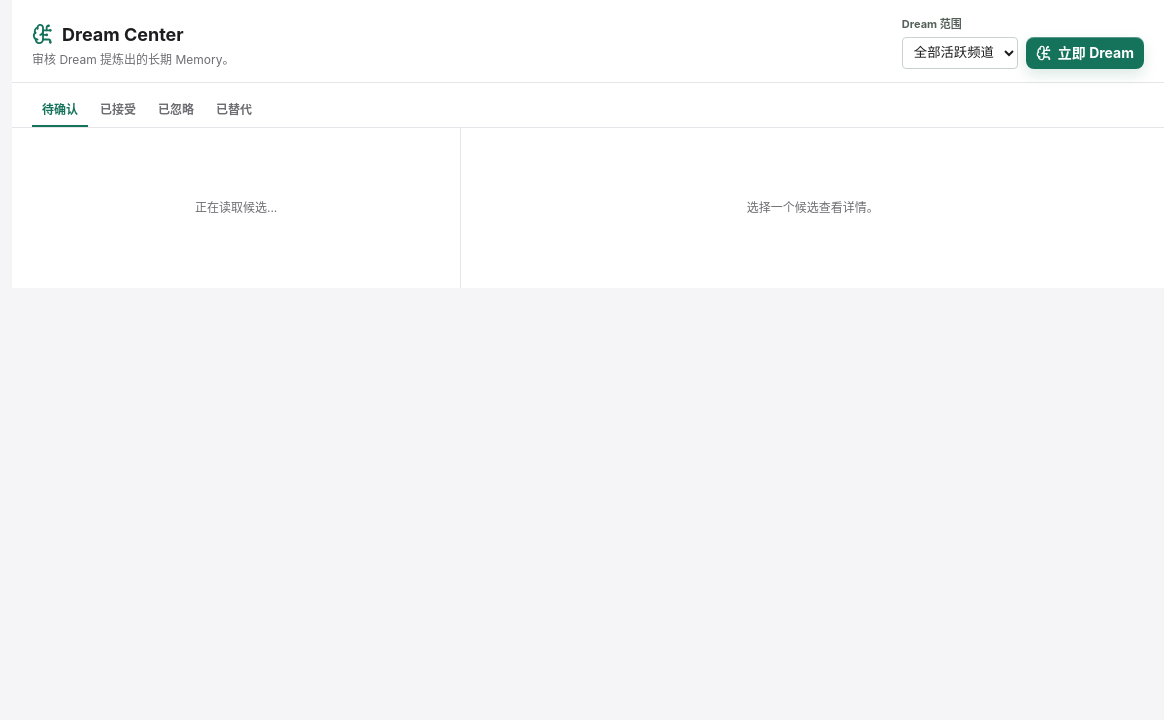
Test: DreamCenter › keeps a newer tab result when an older status request resolves last
Click the tab "已忽略". click: (176, 110)
box: [148, 94, 204, 126]
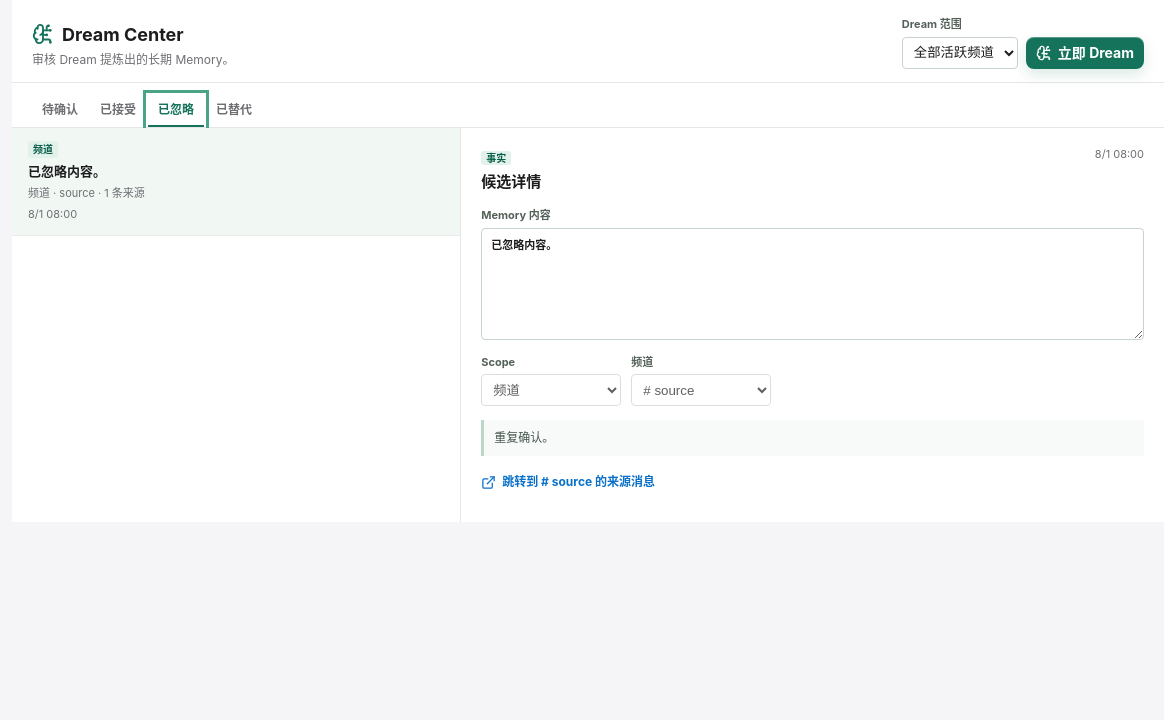
expect the button "频道 已忽略内容。 频道 · source · 1 条来源 8/1 08:00" is shown: met, box [12, 128, 460, 236]
